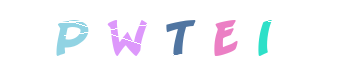E: (139, 0, 219, 80)
I: (223, 0, 303, 80)
P: (50, 0, 130, 80)
T: (133, 0, 213, 80)
W: (131, 0, 211, 80)
